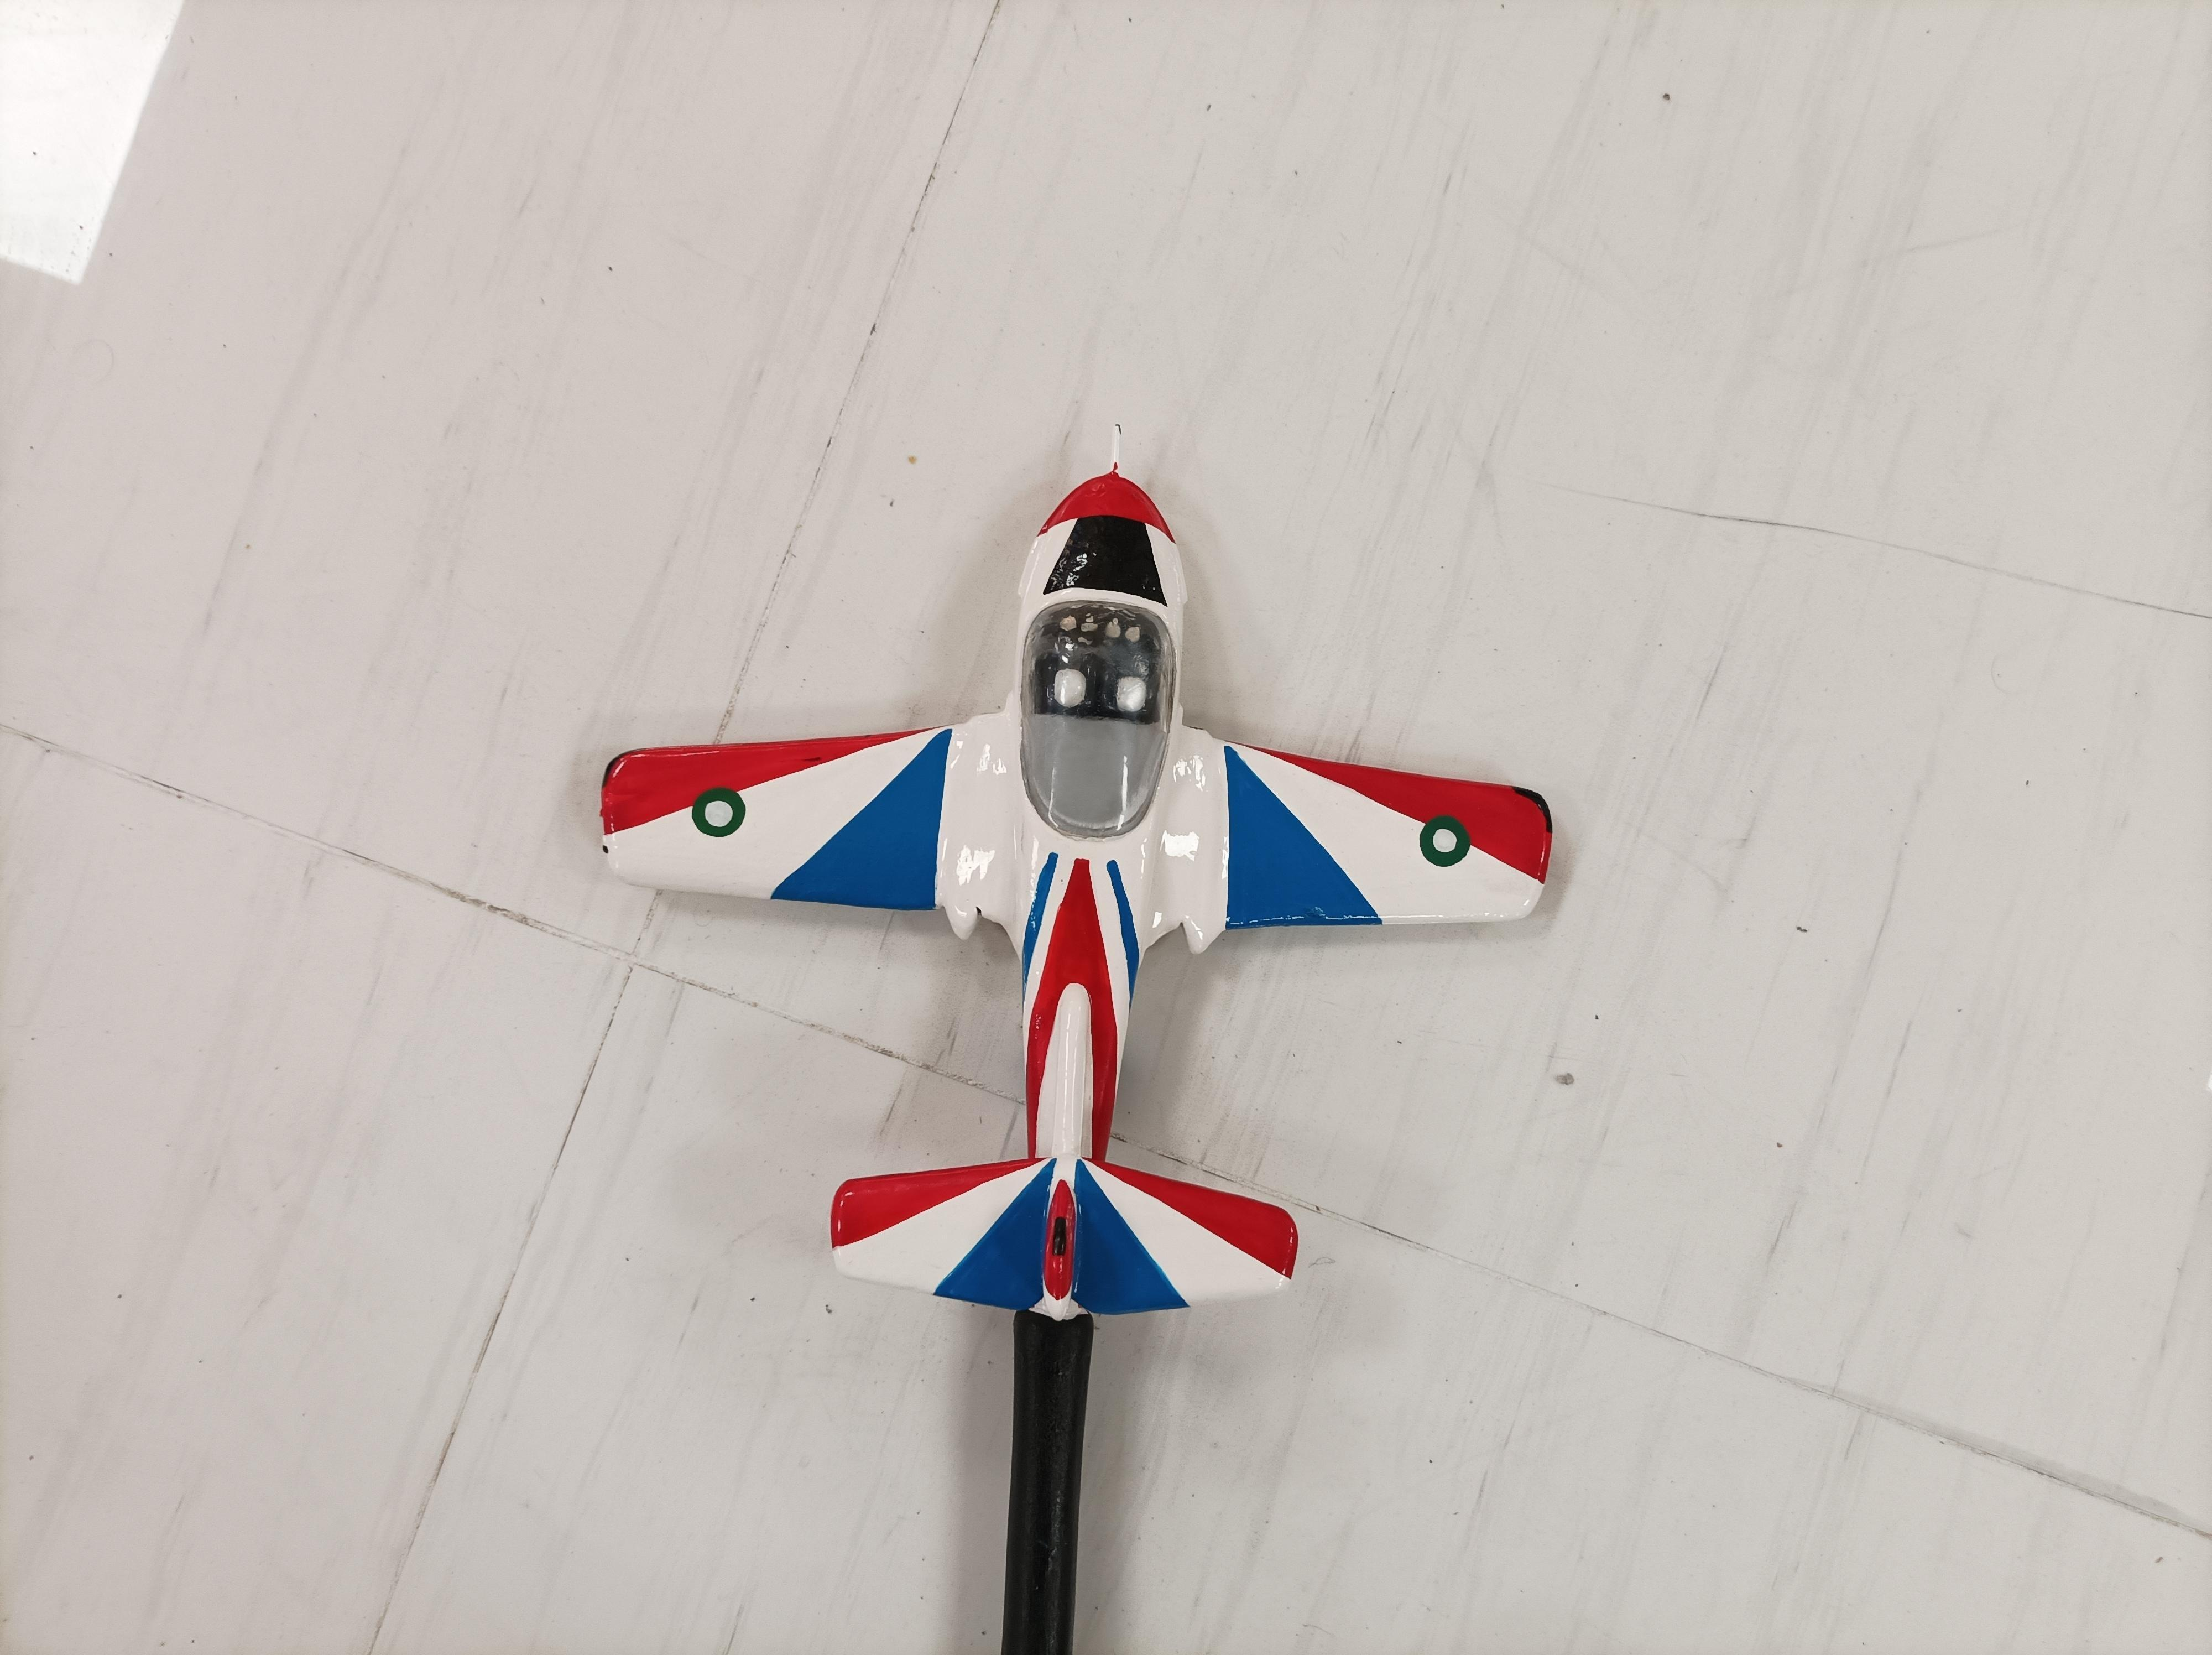Airplane: (586, 440, 1581, 1342)
